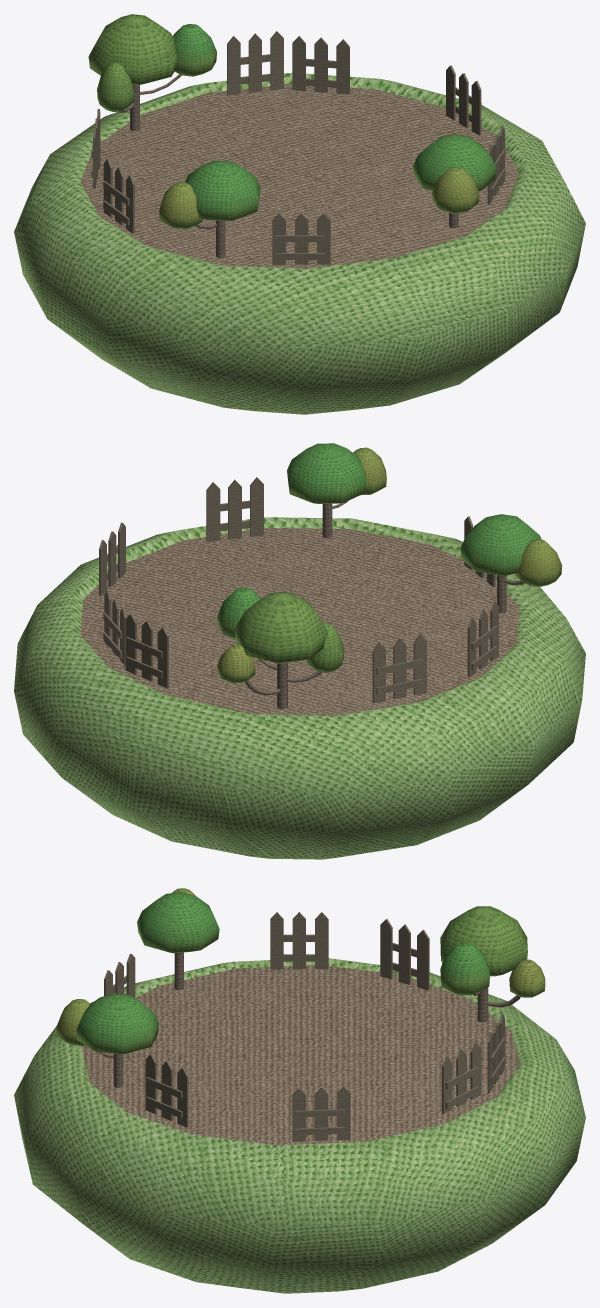
File: bg_field.FBX
3 renders of one model, top to bottom at view 1: azimuth 30°, elevation 25°; view 2: azimuth 150°, elevation 25°; view 3: azimuth 270°, elevation 25°, orthographic.
Visible parts, largest first — view 1: field_original, field_prob; view 2: field_original, field_prob; view 3: field_original, field_prob.
Boxes of the visible parts, <box> form: field_original: <box>14,72,585,414</box>; field_prob: <box>88,14,505,265</box>; field_original: <box>14,517,585,859</box>; field_prob: <box>99,443,562,708</box>; field_original: <box>14,958,585,1293</box>; field_prob: <box>56,888,545,1141</box>.
Bounding box in the file's own units: 1619 × 975 × 1619.
